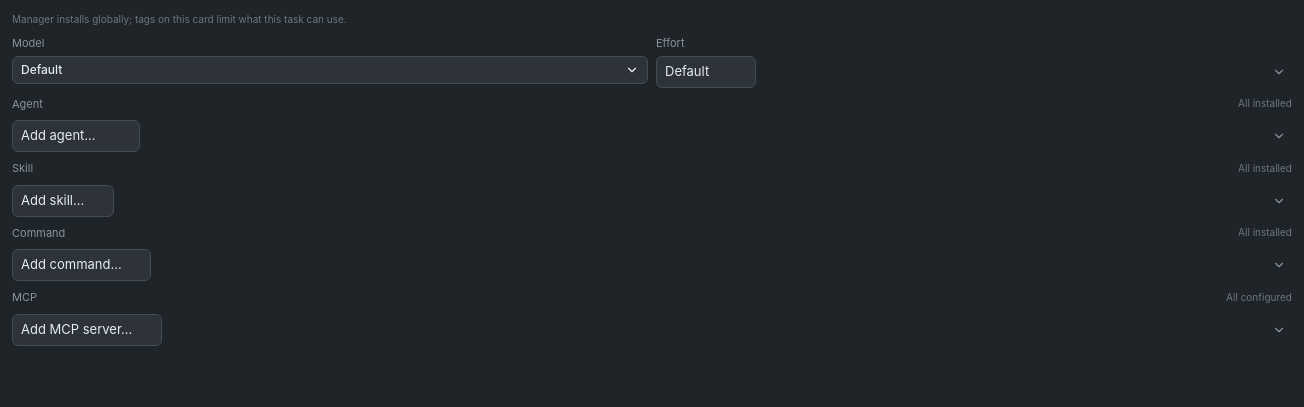
Test: TaskLaunchSettingsPicker › accumulates multiple skill adds before parent value catches up
The width and height of the screenshot is (1304, 407).
Select "review" in the dropdown below "Skill" at (63, 200), box [12,184,114,216]
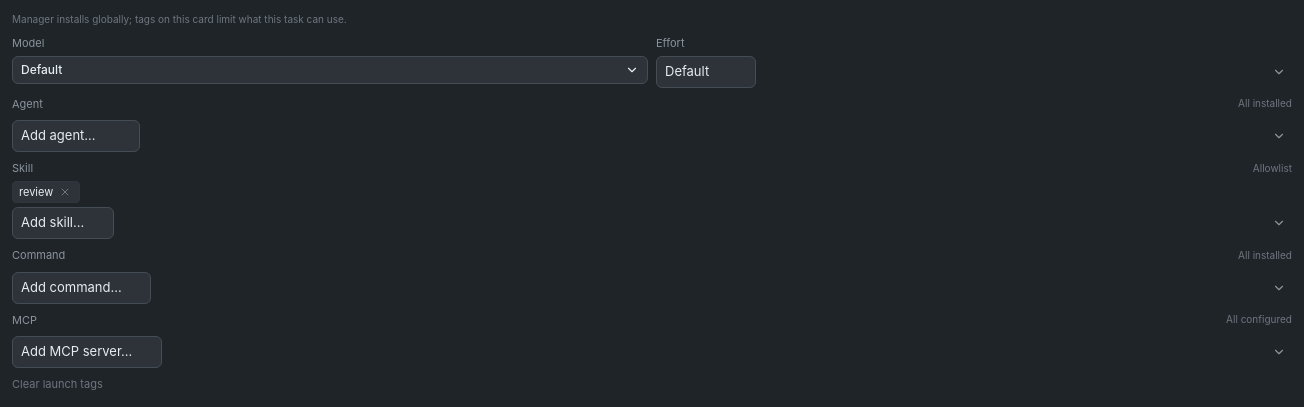
Select "plan" in the dropdown below "review" at (63, 223), box [12,207,114,239]
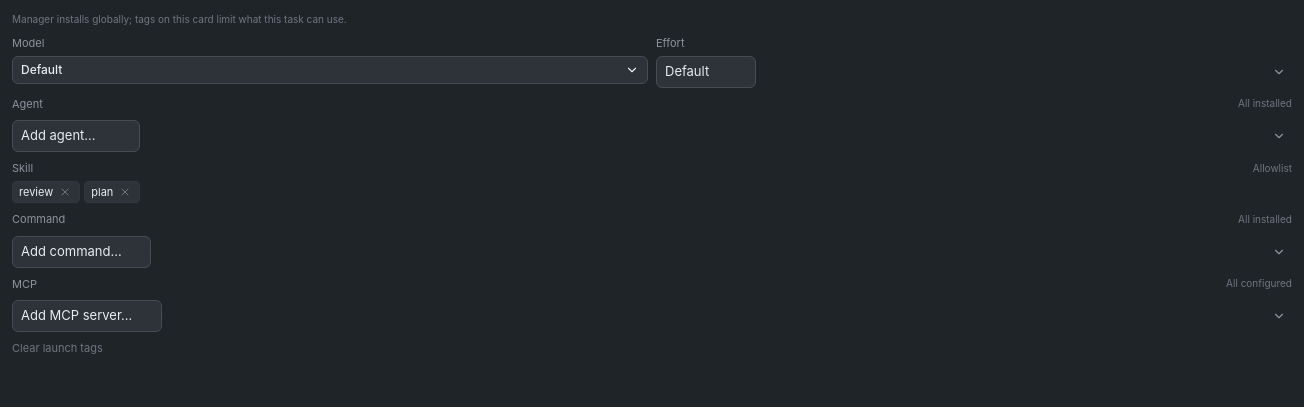
Now the button named "Remove review" is shown, box [57,184,73,200]
Now the button named "Remove plan" is shown, box [117,184,133,200]
